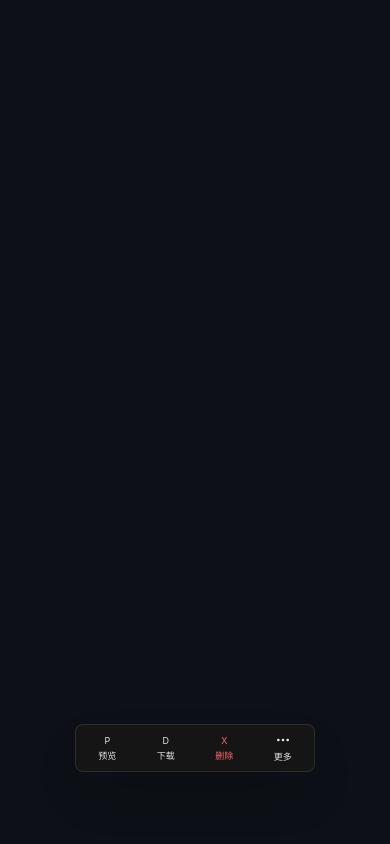
MobileImageActions › keeps preview, download, and delete fixed while exposing every action in more
Expected: the button "P 预览" is shown, [80,734,134,762]
Expected: the button "D 下载" is shown, [138,734,193,762]
Click the button "更多" at (283, 748), box [256,732,310,764]
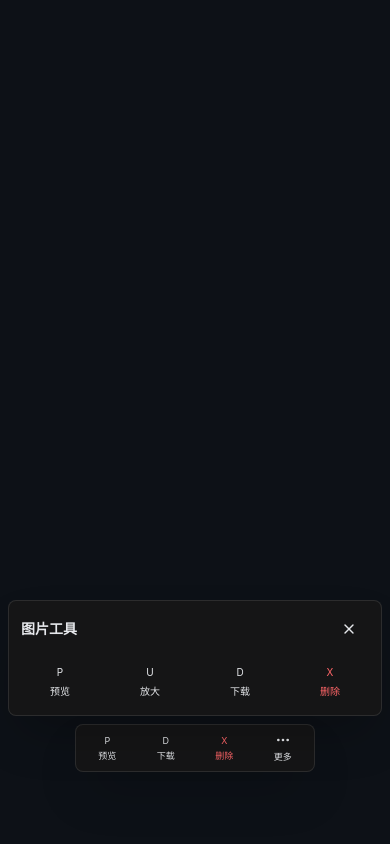
Expected: the 2nd button "P 预览" is shown, [80,734,134,762]
Expected: the button "U 放大" is shown, [107,657,193,707]
